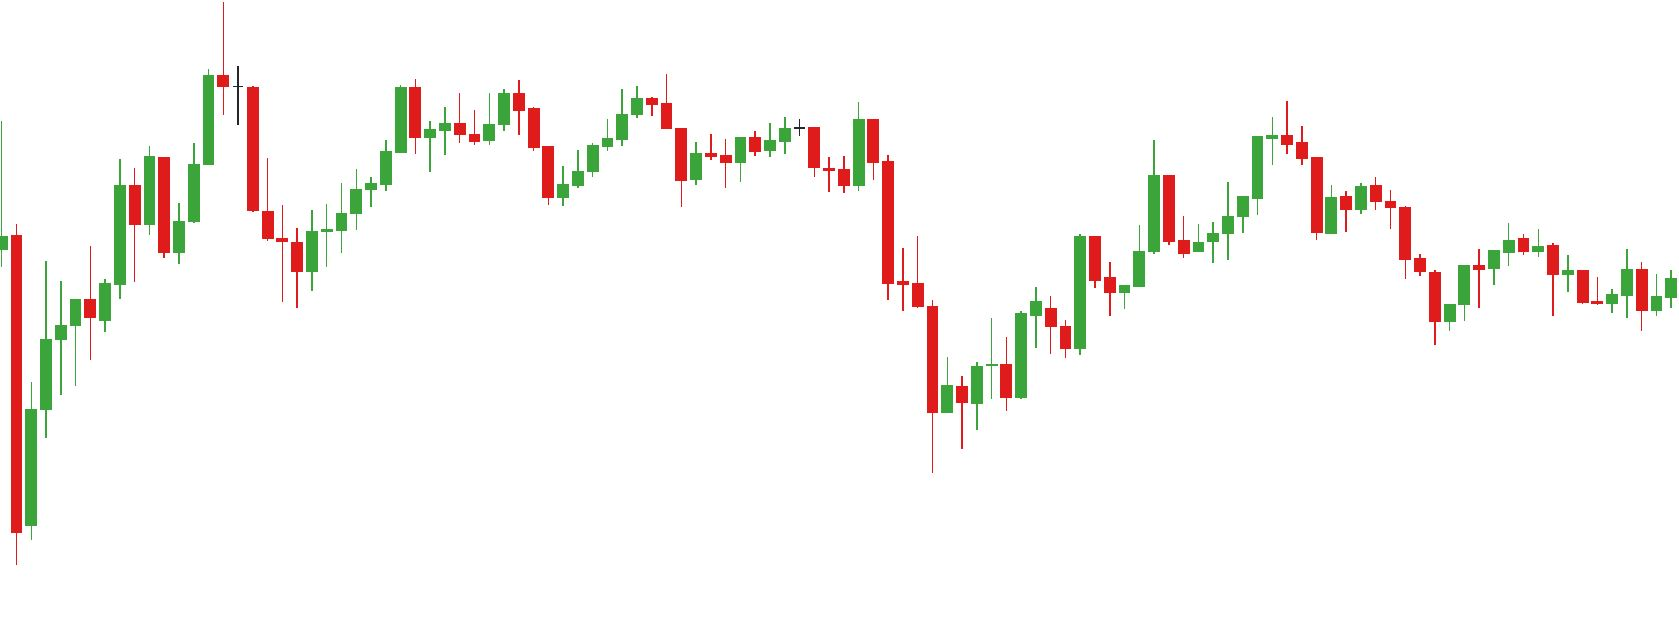buy: (156, 124, 318, 311), (423, 110, 586, 209)
sell: (1148, 102, 1292, 219), (777, 103, 881, 187)
